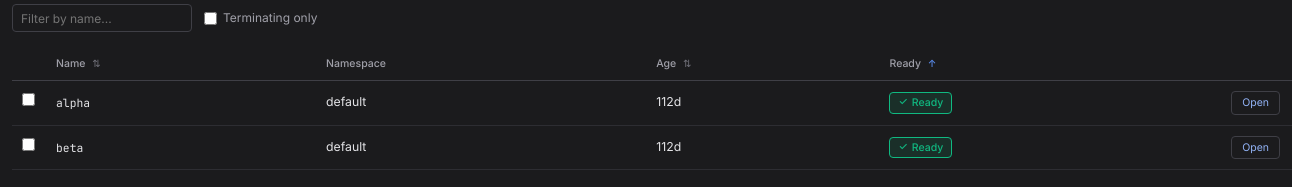
Test: InstanceTable › filters rows by name input
This screenshot has width=1292, height=187.
Type "alp" into the search field with test id "instance-name-filter" at (102, 18), box [12, 4, 192, 32]
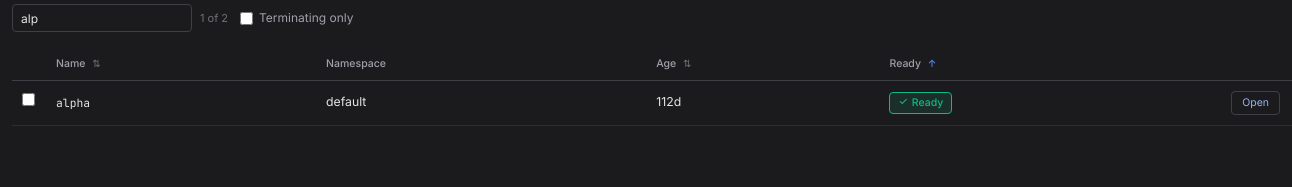
Expected: the row with test id "instance-row-alpha" is shown, [12, 80, 1291, 125]
Expected: the row with test id "instance-row-beta" is gone
